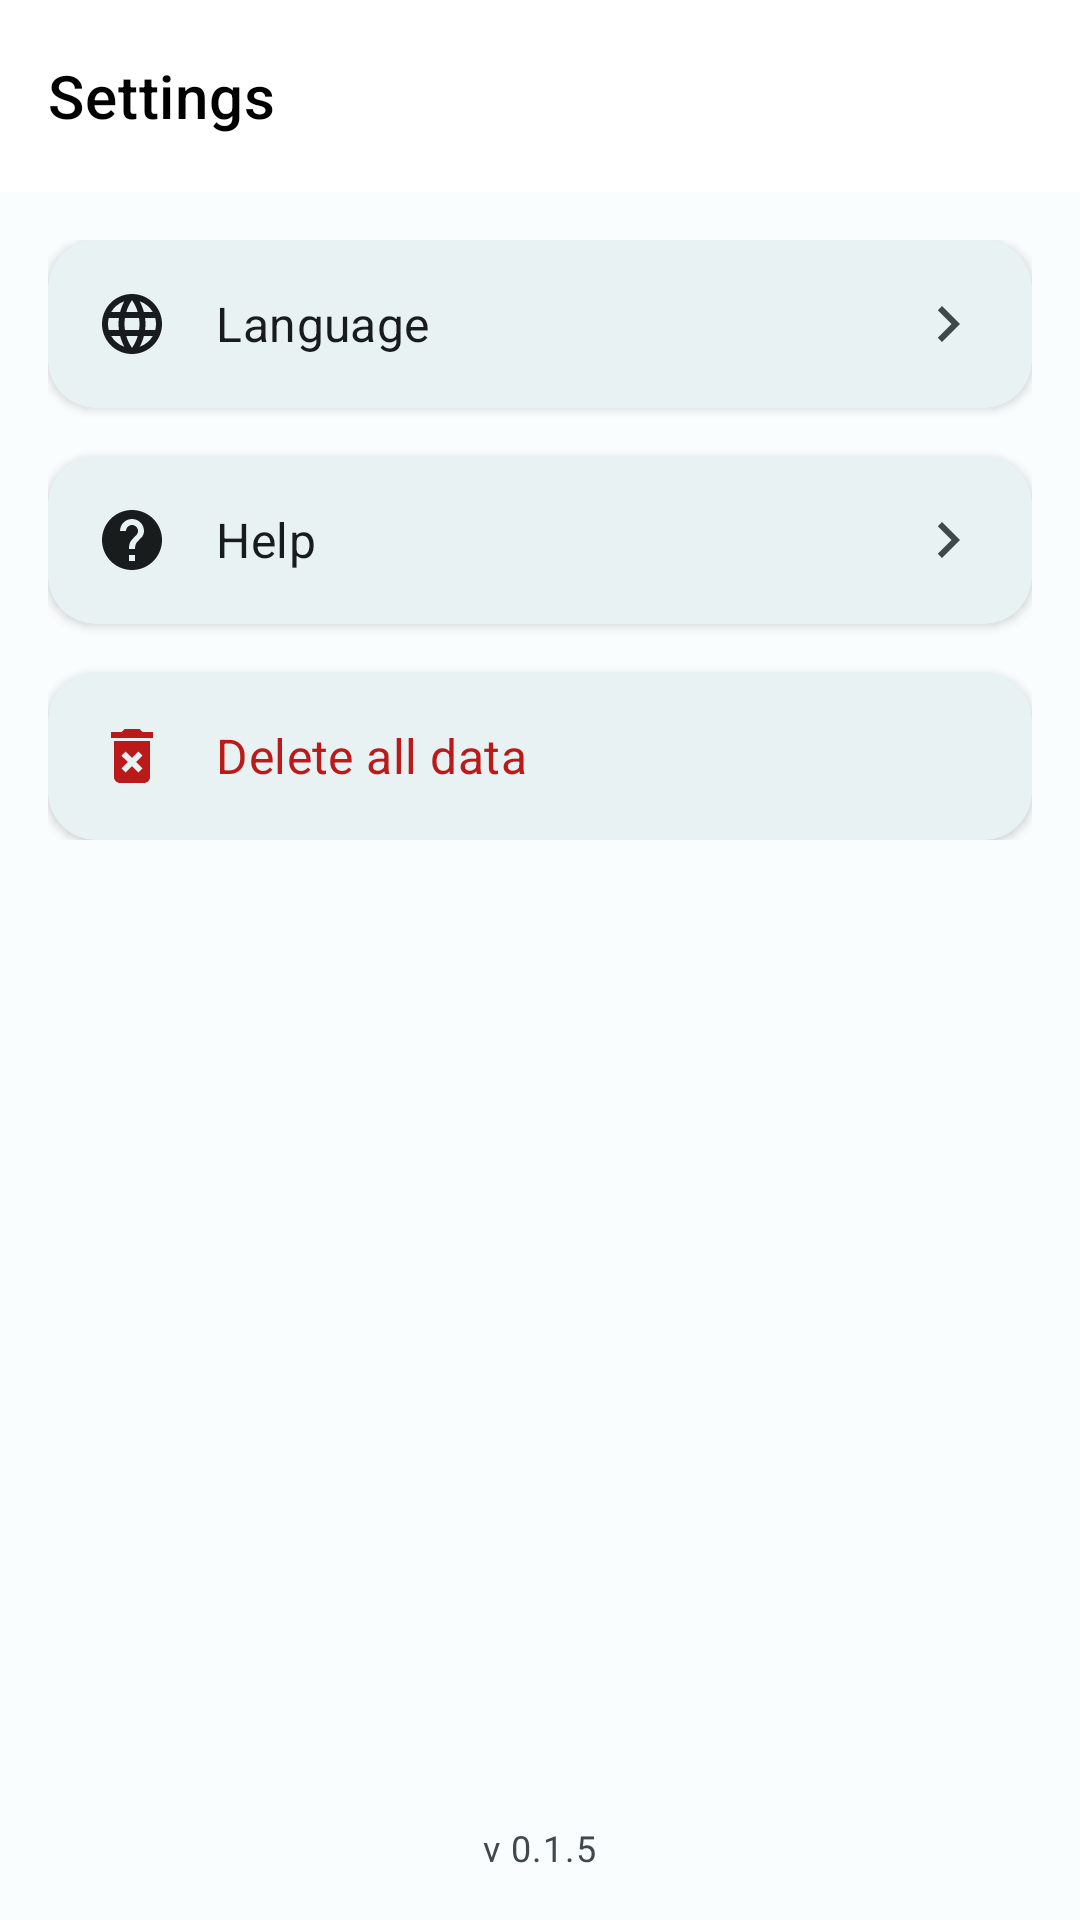

Screen size 1080 x 1920. Icon name, then its box in pixels as (x1, y1, x2, y2):
chevron right: (938, 306, 960, 342), (938, 522, 960, 558)
delete forever: (111, 729, 153, 783)
